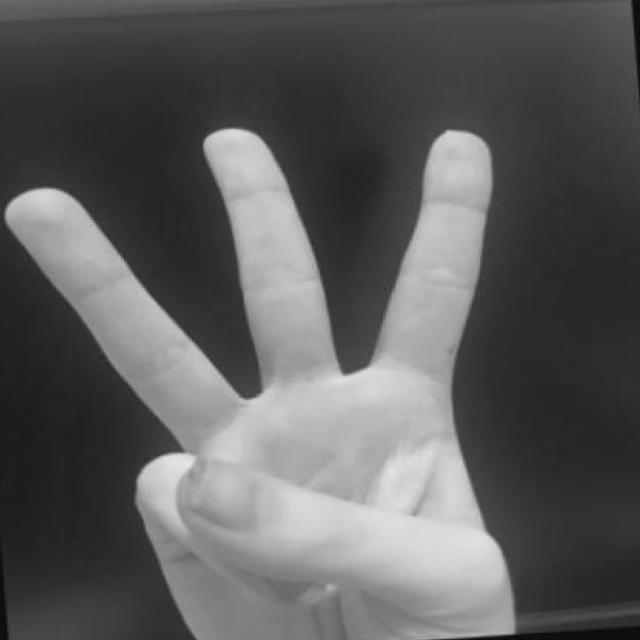W: (0, 111, 553, 639)
